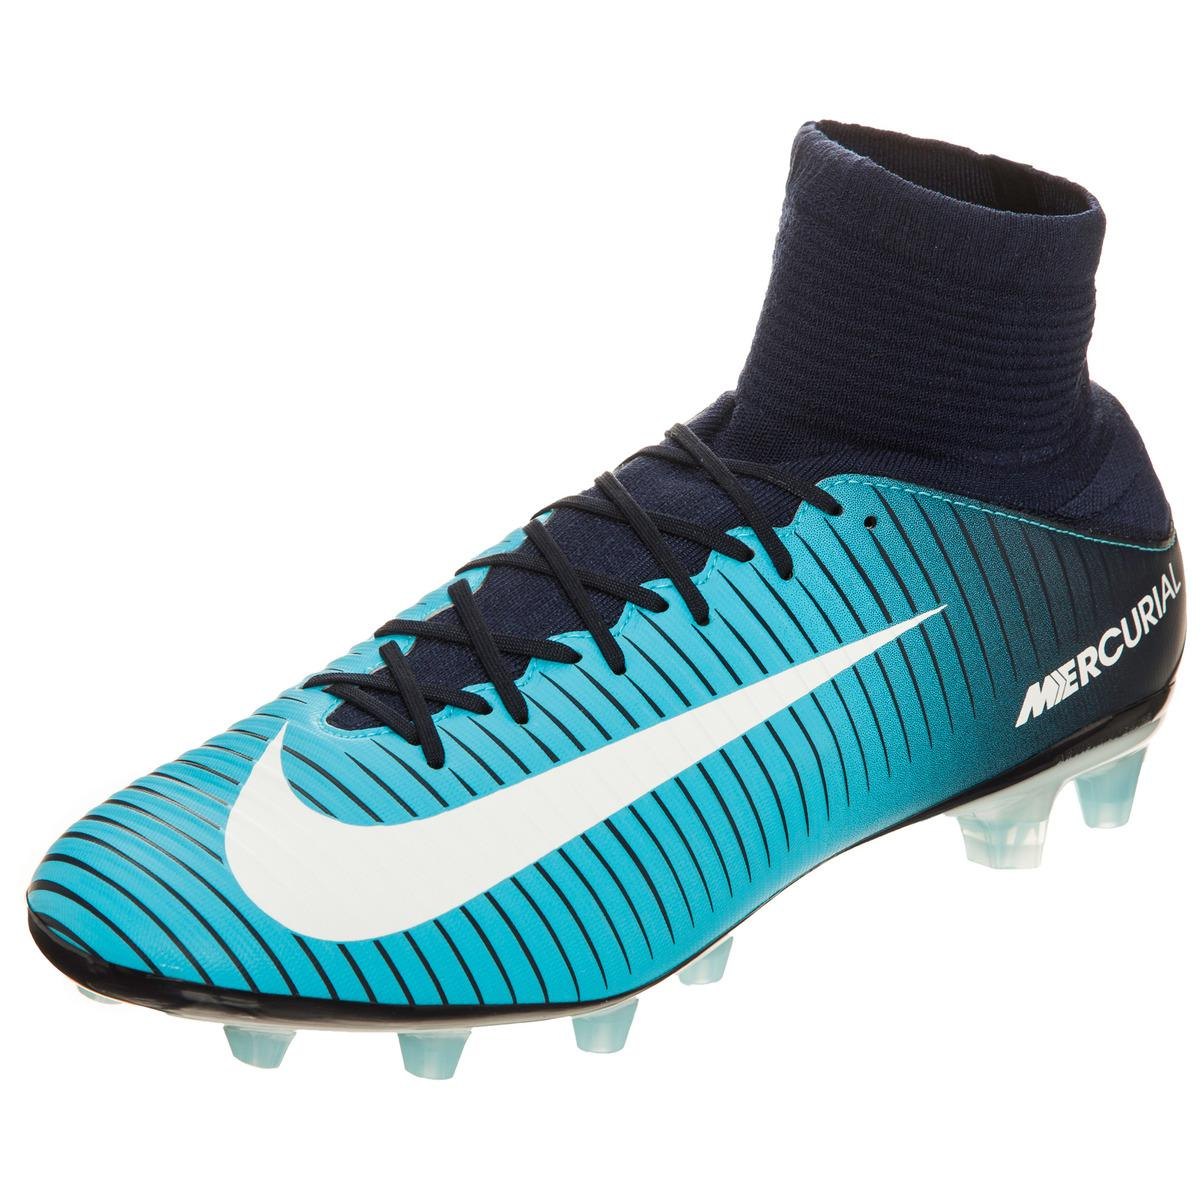football boots: (24, 116, 1188, 1081)
